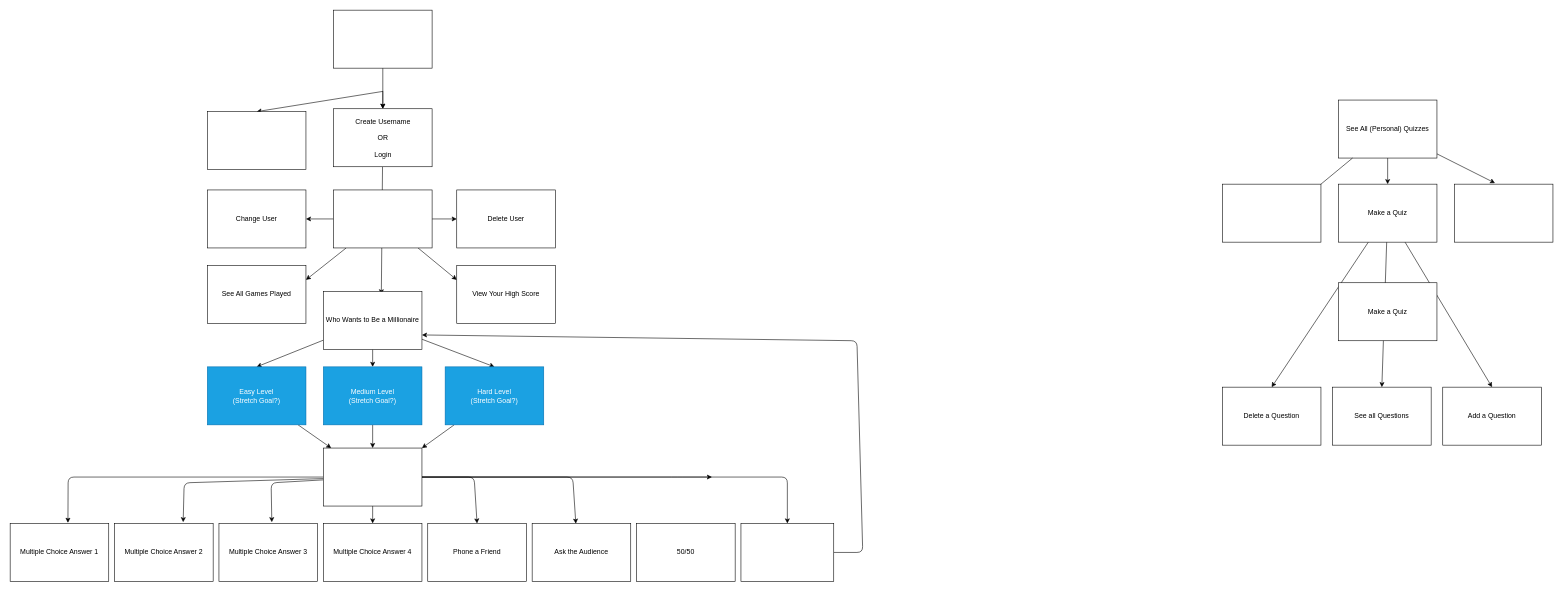
This 1563x592 diagram has some shape labels left out. The box of each missing label's shape, as (x1, y1, x2, y2) in pixels:
Delete a Quiz: (1454, 184, 1553, 242)
Edit a Quiz: (1222, 184, 1321, 242)
Exit: (207, 111, 306, 170)
Menu: (333, 189, 432, 248)
Question: (323, 447, 422, 506)
Walk Away: (740, 523, 834, 581)
Welcome: (333, 10, 432, 68)
